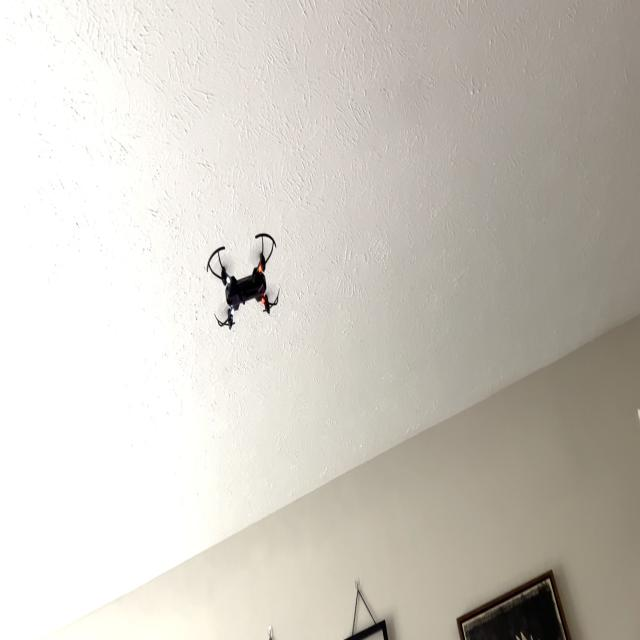drone: (198, 217, 292, 344)
